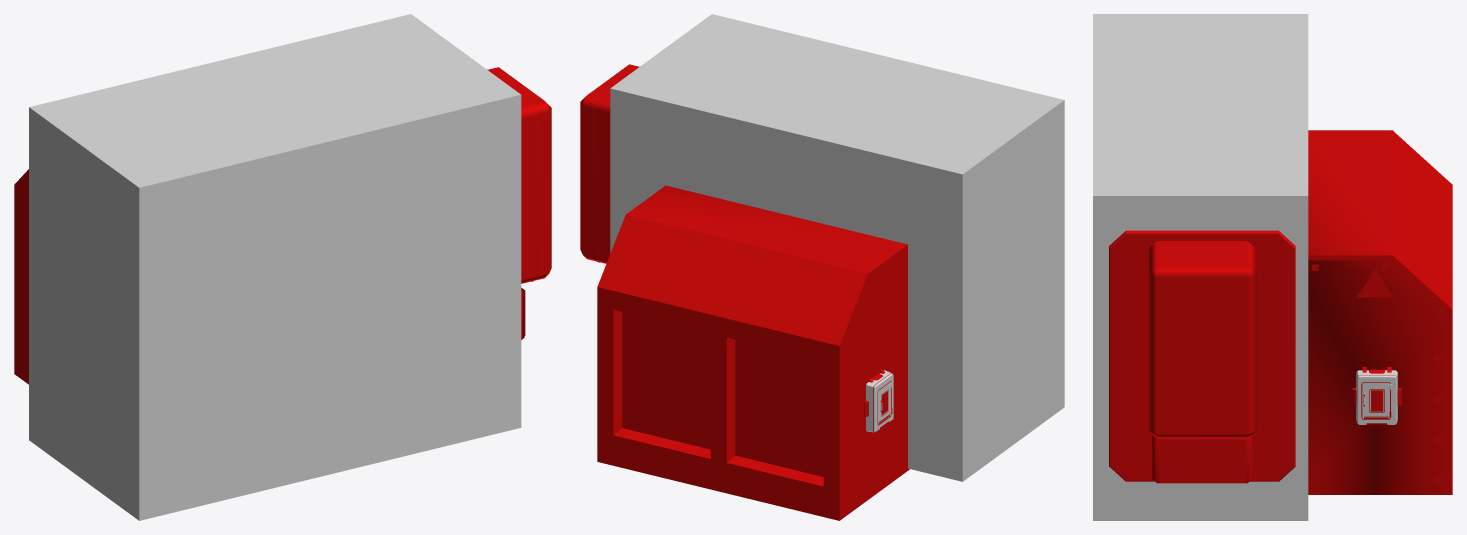
The model's file is PowerSubstation.fbx.
3 views of the same model, side by side, from view 1: azimuth 30°, elevation 25°; view 2: azimuth 150°, elevation 25°; view 3: azimuth 270°, elevation 25° (orthographic). The views are drawn at different scales.
Parts seen in each view (by area): view 1: GeneratorCoal_static; view 2: GeneratorCoal_static; view 3: GeneratorCoal_static.
Part boxes in pixels (x1,y1,x2,y2): GeneratorCoal_static: [14, 14, 551, 520]; GeneratorCoal_static: [580, 14, 1064, 520]; GeneratorCoal_static: [1093, 14, 1452, 520].
Size of the model in its own units: 700 by 504 by 502.
